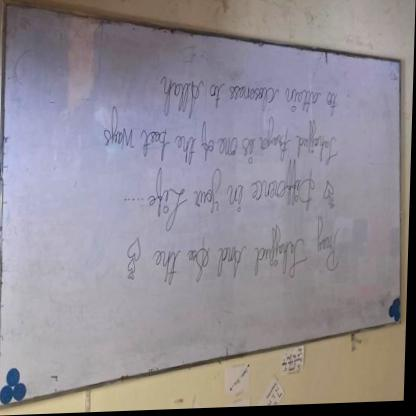Handwritten text: (141, 214, 353, 302), (102, 117, 343, 169), (143, 166, 325, 233), (152, 75, 344, 135)
Whiteboard: (0, 3, 405, 410)
